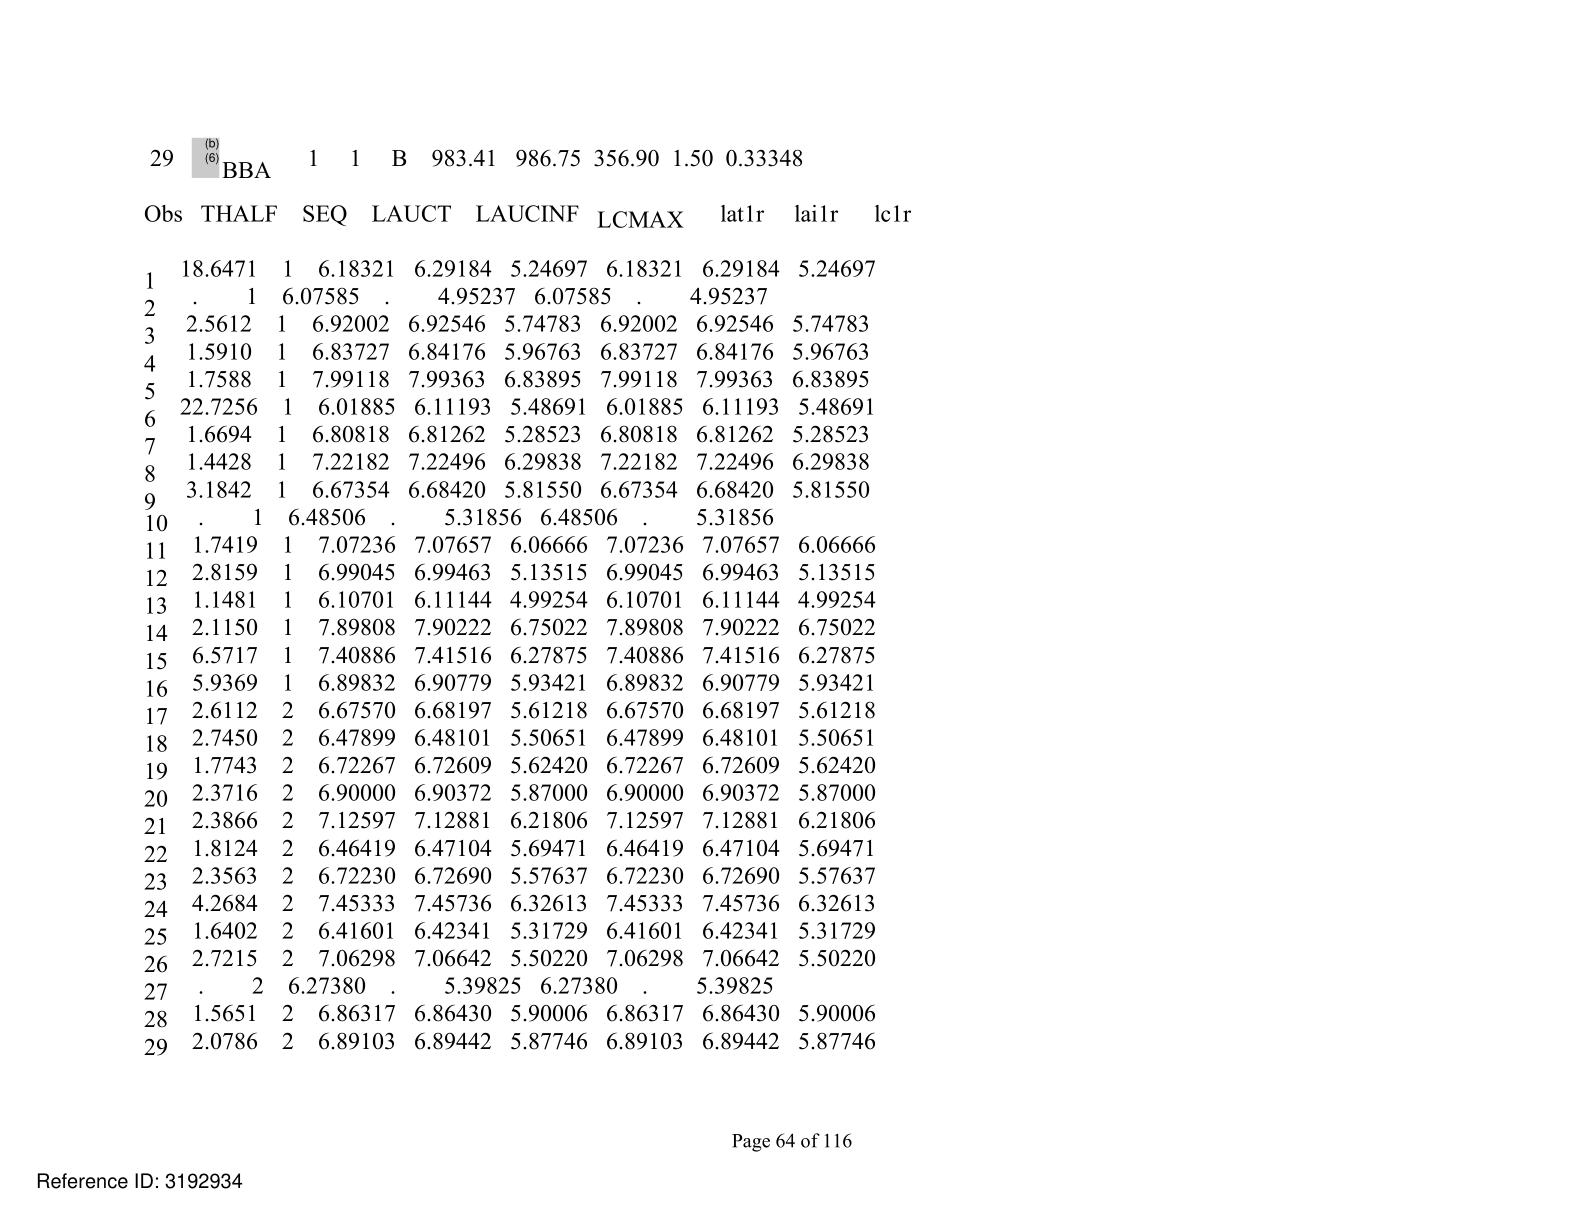nolines: (140, 201, 913, 1061)
